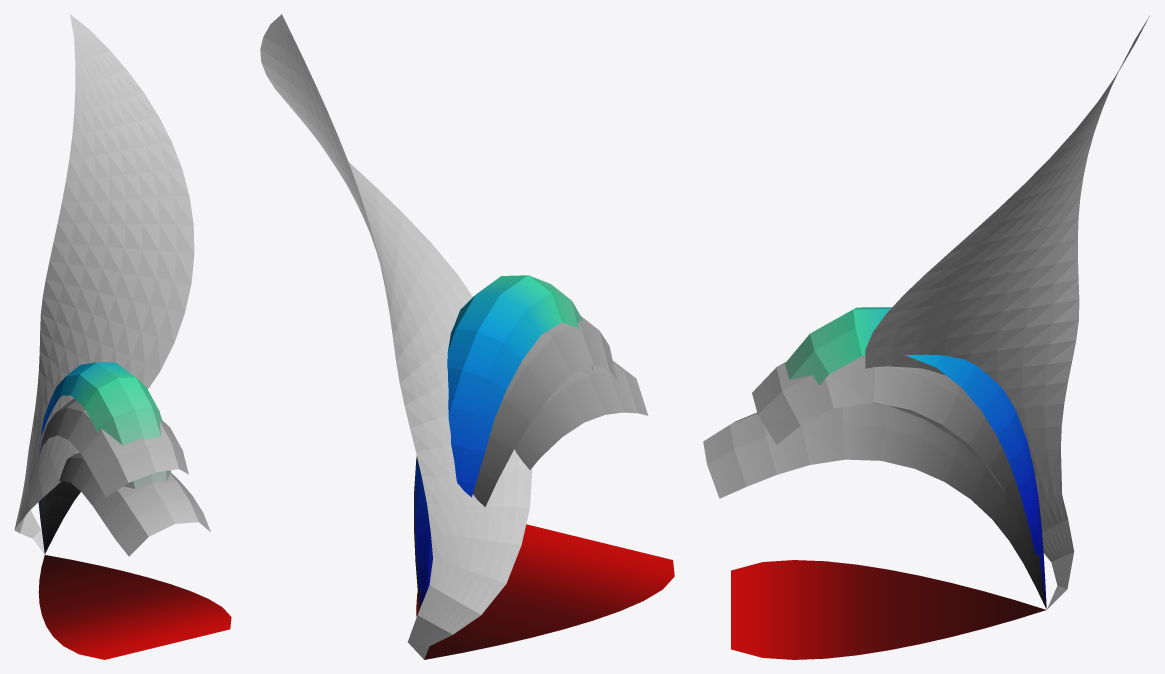
The model's file is VFX_Example_Geometry_11.fbx.
The picture shows the model from 3 angles, left to right: view 1: azimuth 30°, elevation 25°; view 2: azimuth 150°, elevation 25°; view 3: azimuth 270°, elevation 25°; orthographic projection. The views are drawn at different scales.
Visible parts, largest first — view 1: Swipe_Mesh_Name, Fluid_Blood, Fluid_Color_02, Fluid, Fluid_Color; view 2: Swipe_Mesh_Name, Fluid, Fluid_Blood, Fluid_Color, Fluid_Color_02; view 3: Swipe_Mesh_Name, Fluid_Blood, Fluid_Color_02, Fluid_Color, Fluid.
Boxes of the visible parts, x1,y1,x2,y2 form: Swipe_Mesh_Name: [14, 14, 194, 553]; Fluid_Blood: [38, 555, 231, 659]; Fluid_Color_02: [44, 453, 210, 556]; Fluid: [39, 362, 170, 551]; Fluid_Color: [38, 398, 188, 550]; Swipe_Mesh_Name: [260, 14, 532, 659]; Fluid: [415, 275, 592, 606]; Fluid_Blood: [416, 524, 674, 659]; Fluid_Color: [414, 316, 617, 609]; Fluid_Color_02: [425, 361, 648, 657]; Swipe_Mesh_Name: [865, 16, 1149, 609]; Fluid_Blood: [731, 560, 1045, 659]; Fluid_Color_02: [703, 402, 1046, 608]; Fluid_Color: [752, 355, 1046, 608]; Fluid: [785, 307, 1046, 607].
Size of the model in its own units: 93.44 by 223 by 142.
